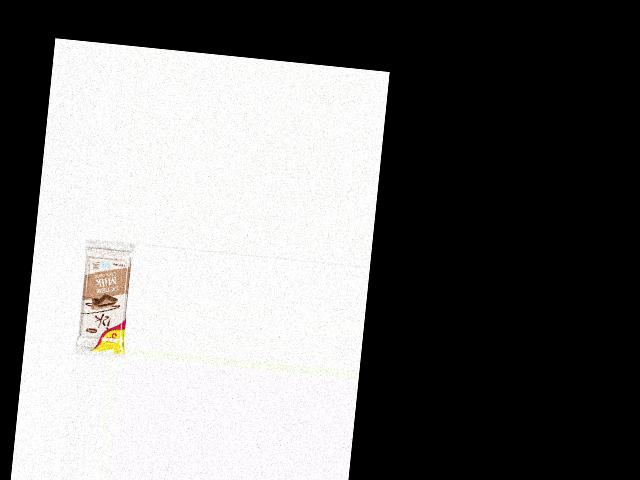chocolate: (72, 249, 134, 359)
